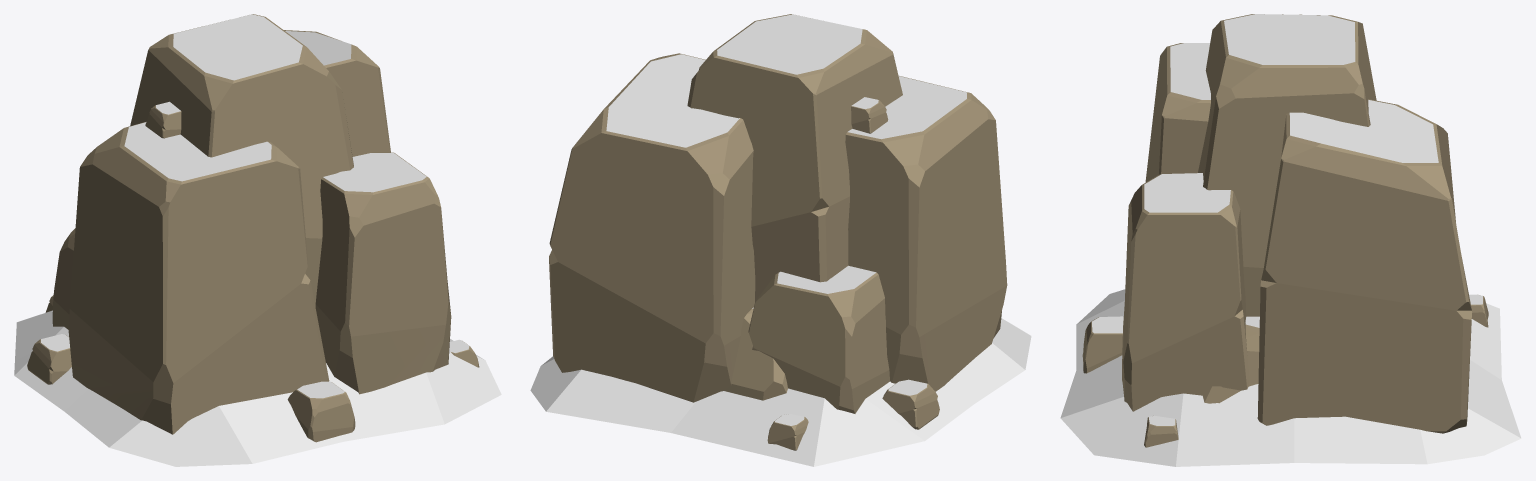
Rendered from HillBox_3.fbx.
The picture shows the model from 3 angles, left to right: view 1: azimuth 30°, elevation 25°; view 2: azimuth 150°, elevation 25°; view 3: azimuth 270°, elevation 25°; orthographic projection. The views are drawn at different scales.
Visible parts, largest first — view 1: New Hill.003; view 2: New Hill.003; view 3: New Hill.003.
Part boxes in pixels (x1,y1,x2,y2): New Hill.003: [14, 14, 501, 466]; New Hill.003: [530, 14, 1031, 466]; New Hill.003: [1060, 14, 1521, 466].
Size of the model in its own units: 432 by 355 by 447.
